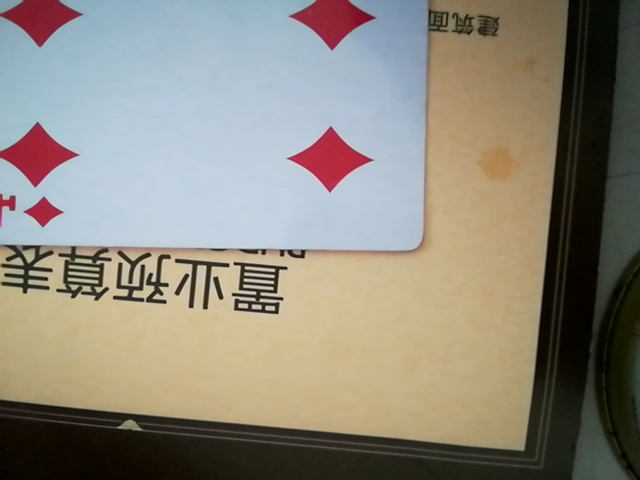fk 4: (0, 0, 423, 252)
